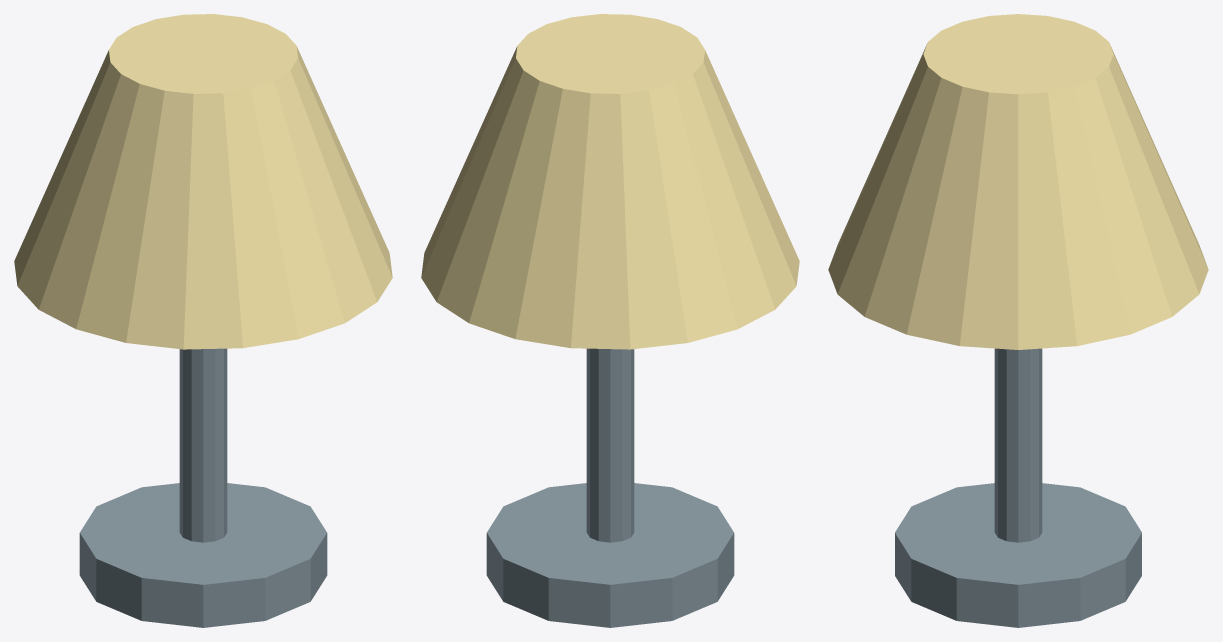
File: table_lamp.glb
The picture shows the model from 3 angles, left to right: view 1: azimuth 30°, elevation 25°; view 2: azimuth 150°, elevation 25°; view 3: azimuth 270°, elevation 25°; orthographic projection.
Visible parts, largest first — view 1: table_lamp_002, table_lamp_000, table_lamp_001; view 2: table_lamp_002, table_lamp_000, table_lamp_001; view 3: table_lamp_002, table_lamp_000, table_lamp_001.
Part boxes in pixels (left/top/right/bottom): table_lamp_002: left=14, top=14, right=392, bottom=349; table_lamp_000: left=79, top=483, right=327, bottom=627; table_lamp_001: left=179, top=348, right=227, bottom=542; table_lamp_002: left=421, top=14, right=799, bottom=349; table_lamp_000: left=486, top=483, right=734, bottom=627; table_lamp_001: left=586, top=348, right=634, bottom=542; table_lamp_002: left=828, top=14, right=1208, bottom=349; table_lamp_000: left=895, top=483, right=1141, bottom=627; table_lamp_001: left=994, top=348, right=1042, bottom=542.
Size of the model in its own units: 0.4 by 0.605 by 0.4.
